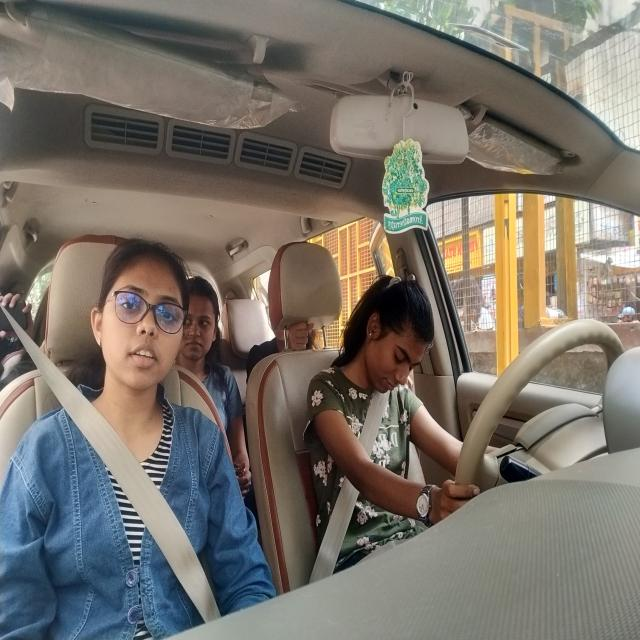drowsy: (344, 274, 440, 394)
person: (97, 209, 189, 392), (182, 268, 222, 355)
